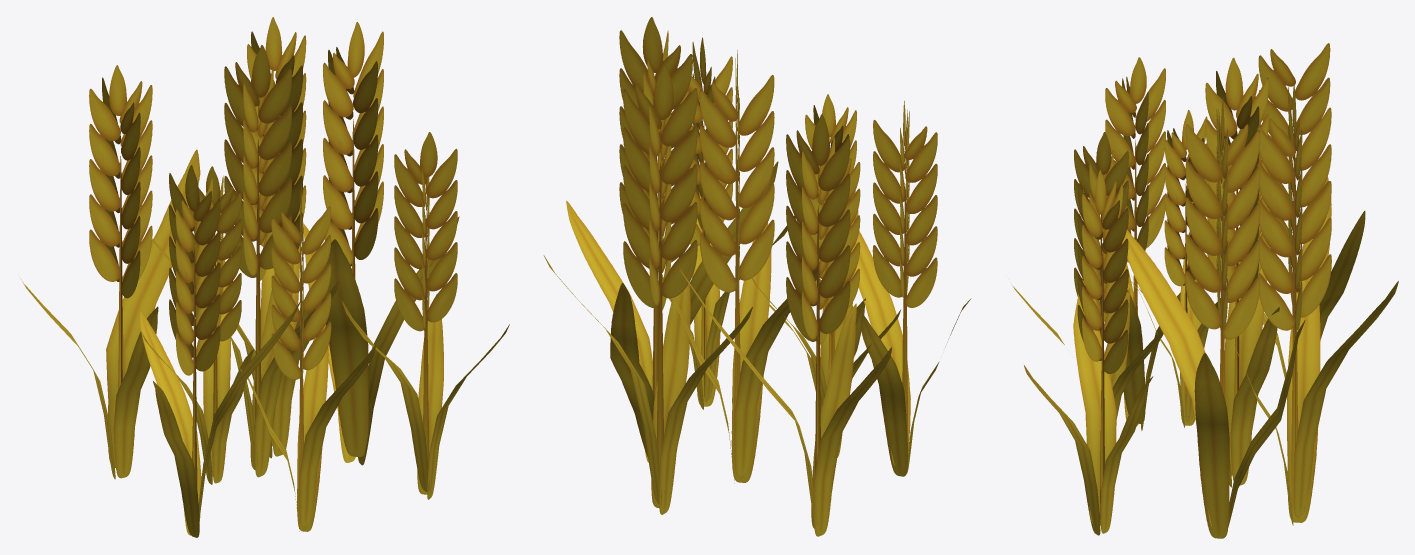
The model's file is Padi1.fbx.
The picture shows the model from 3 angles, left to right: view 1: azimuth 30°, elevation 25°; view 2: azimuth 150°, elevation 25°; view 3: azimuth 270°, elevation 25°; orthographic projection.
Visible parts, largest first — view 1: Wheat; view 2: Wheat; view 3: Wheat.
Boxes of the visible parts, x1,y1,x2,y2 form: Wheat: [20, 17, 509, 537]; Wheat: [543, 17, 971, 536]; Wheat: [1012, 43, 1398, 538].
Bounding box in the file's own units: 67.2 × 75.75 × 59.85.
Materials: 1 (1 with a texture image).
